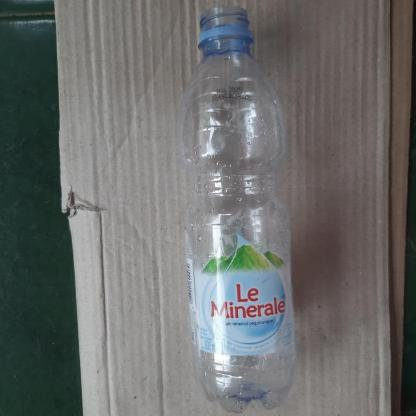Plastic Bottle: (180, 5, 296, 401)
